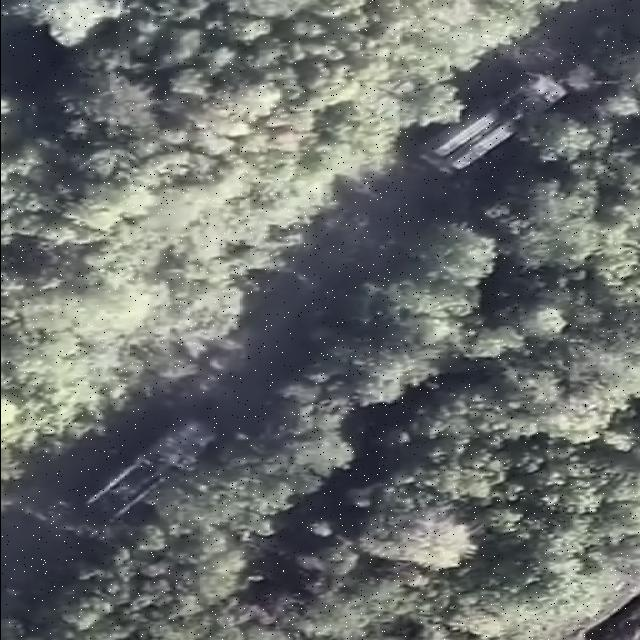MLRS: (413, 66, 567, 176)
TRUCK: (73, 419, 219, 525)
